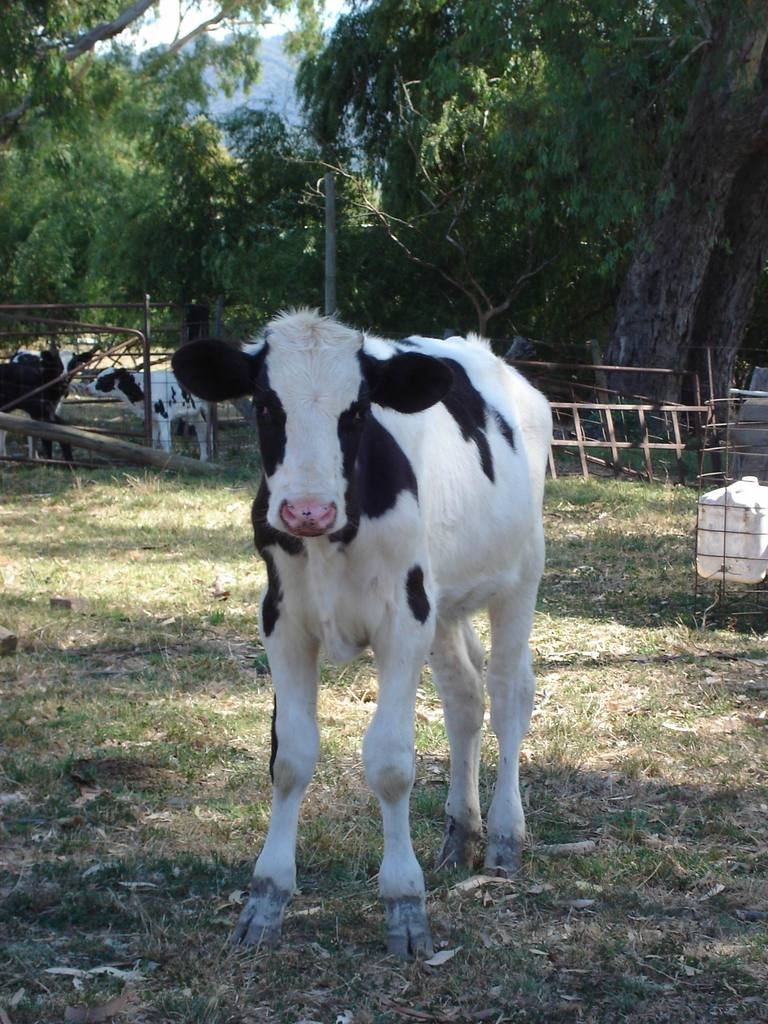Tree: (0, 0, 768, 434)
